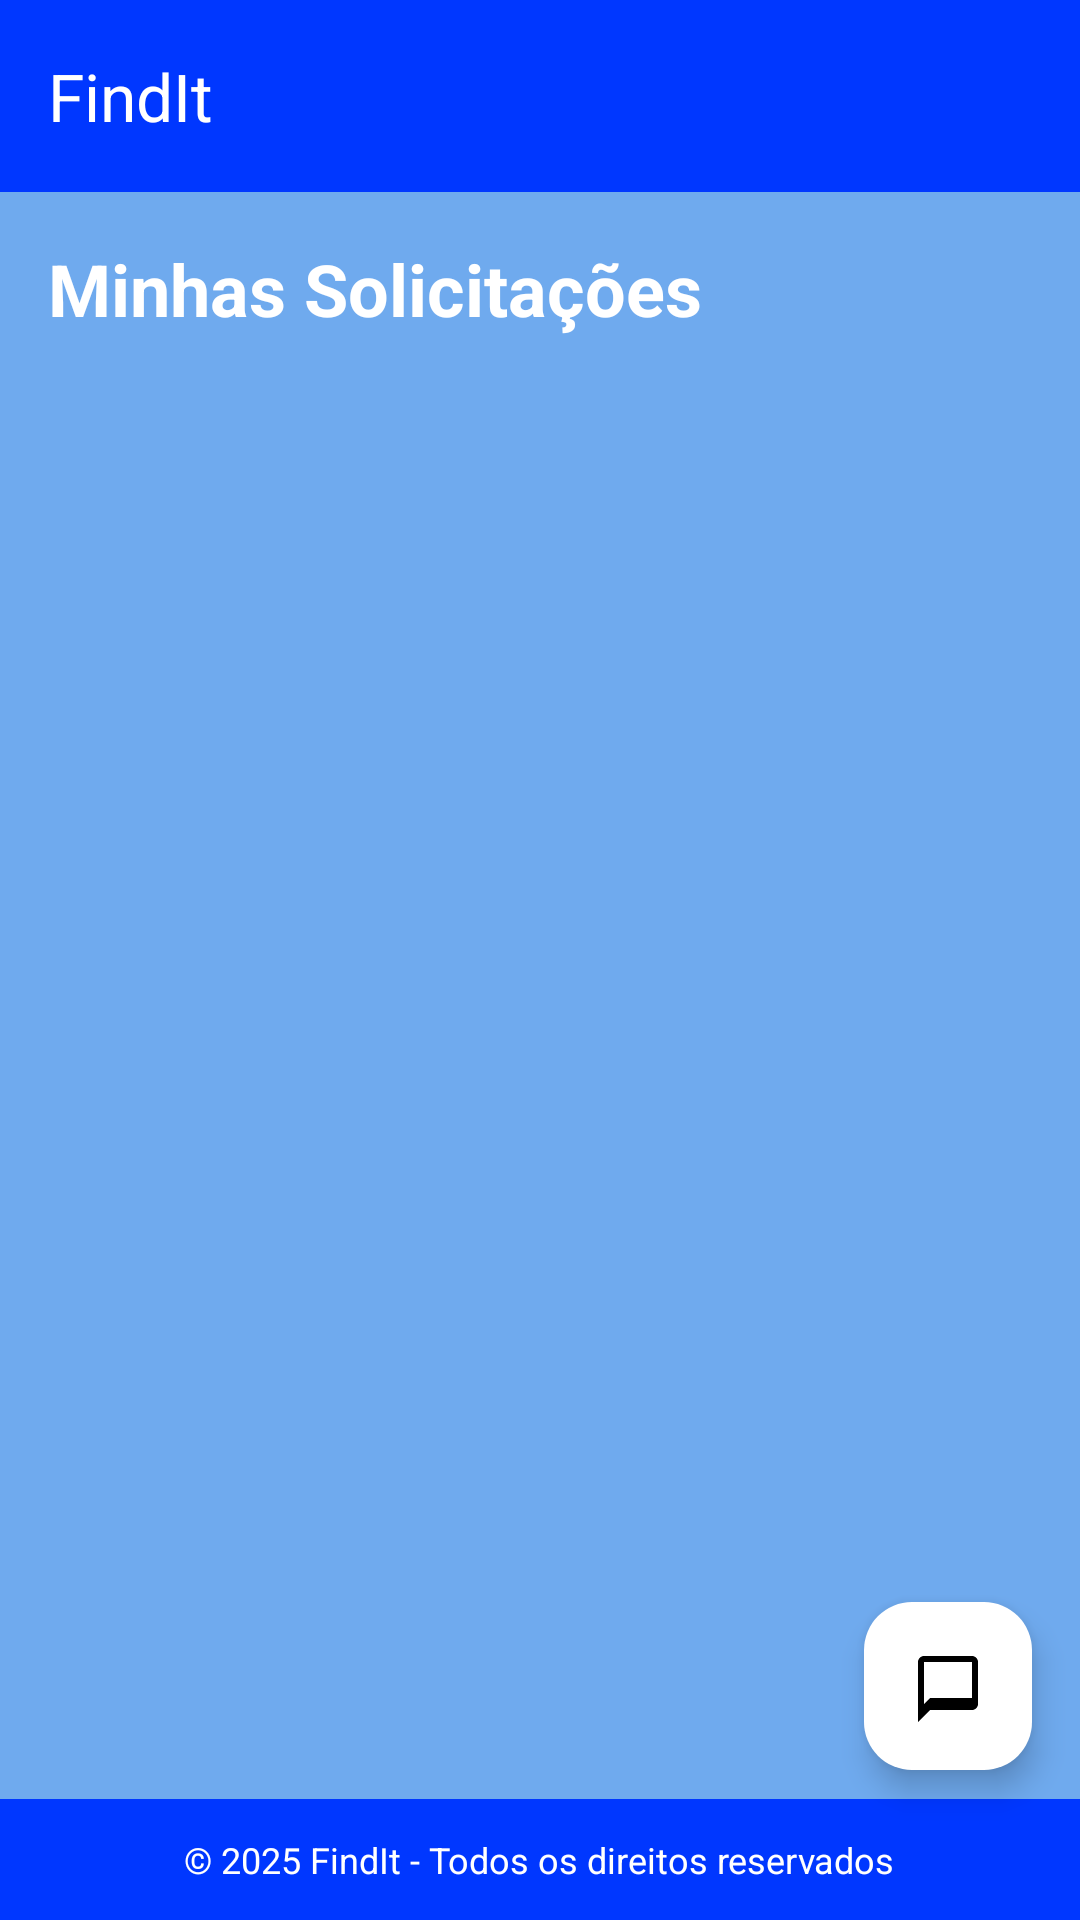

Screen size 1080w x 1920h. Icon name, then its center in pixels as (x,y):
chat: (948,1686)
